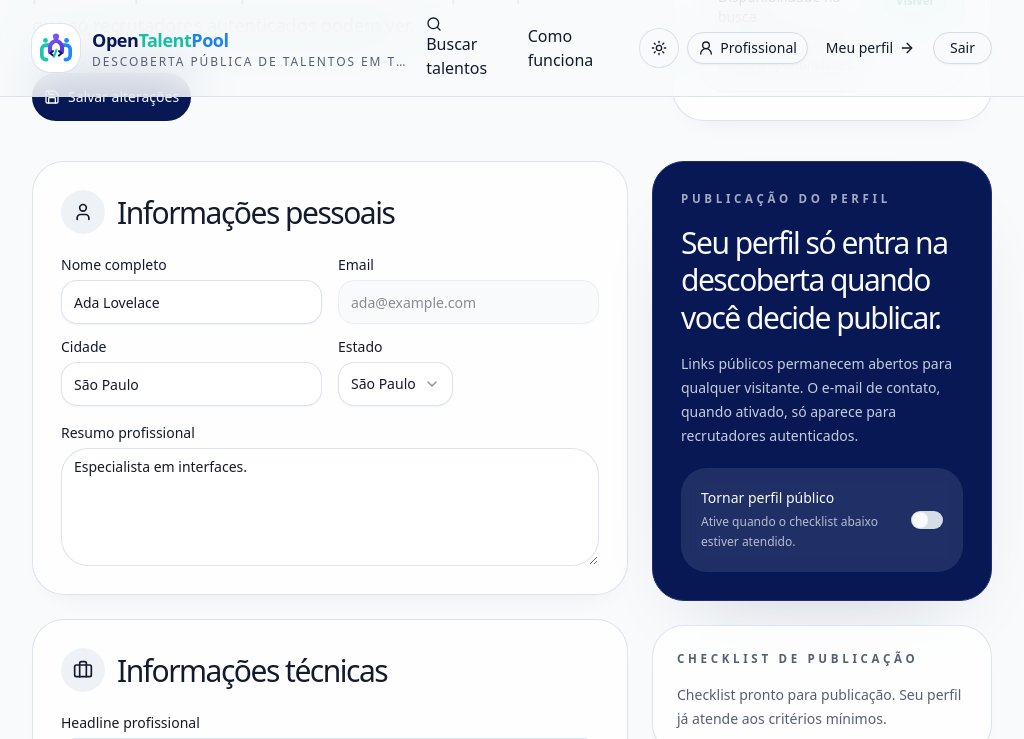
Test: Dashboard › salva o rascunho local após o debounce quando o perfil muda
(page scrolled)
Replace the text in the field labelled "Cidade" with "Recife". click: (192, 384)
box: [61,362,322,406]
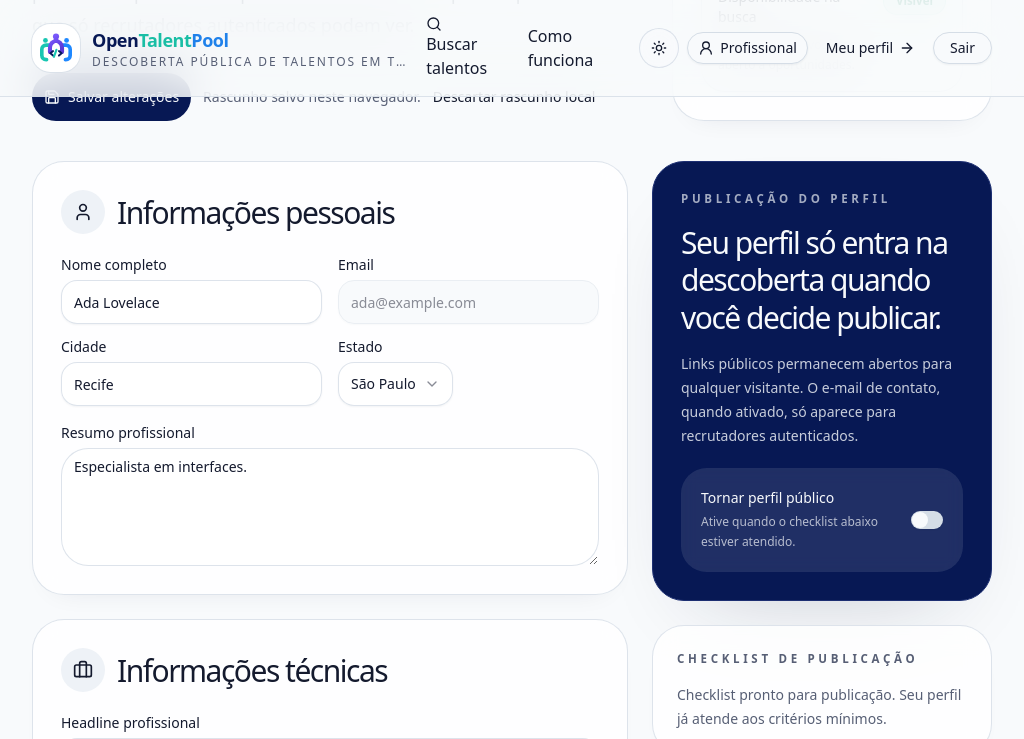
Result: the text "Rascunho salvo neste navegador." is shown at [203,87,421,107]
